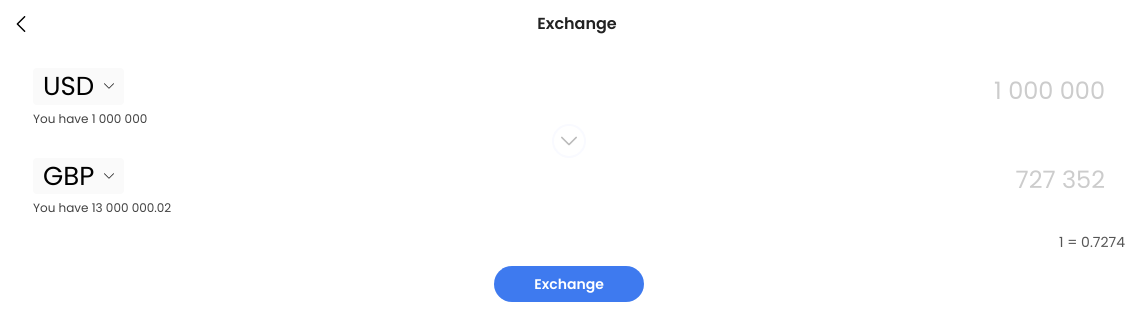
Test case: Value "to" changes on "from" change
Type "1" into the field with test id "from-input" at (615, 90), box [124, 78, 1105, 102]
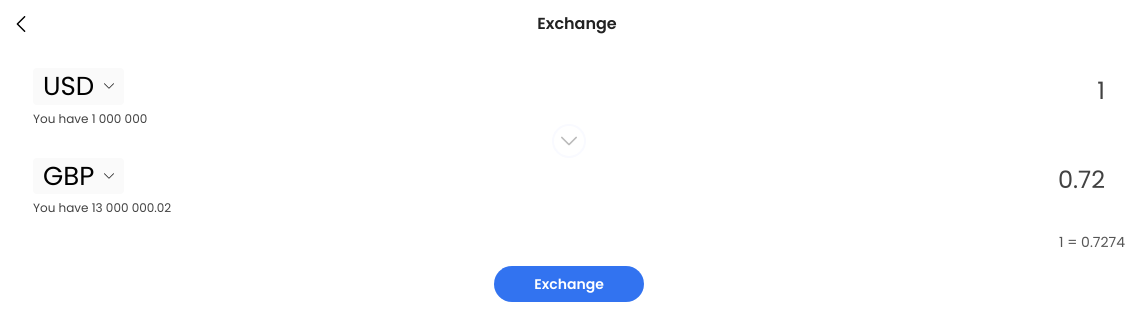
Replace the text in the field with test id "to-input" with "10" at (615, 180), box [124, 168, 1105, 192]
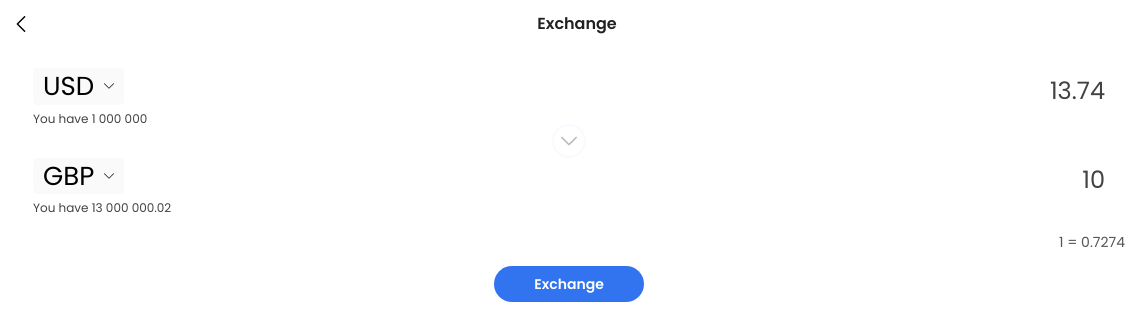
Expected: the field with test id "from-input" does not hold "1", [124, 78, 1105, 102]
